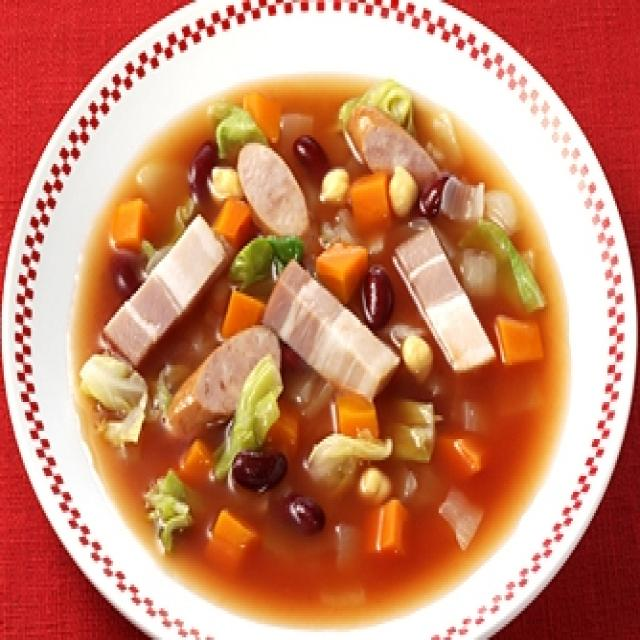汤锅炖物: (4, 0, 632, 632)
